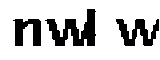l: (85, 6, 110, 54)
n: (8, 14, 45, 50)
w: (113, 14, 160, 55), (46, 16, 88, 53)
